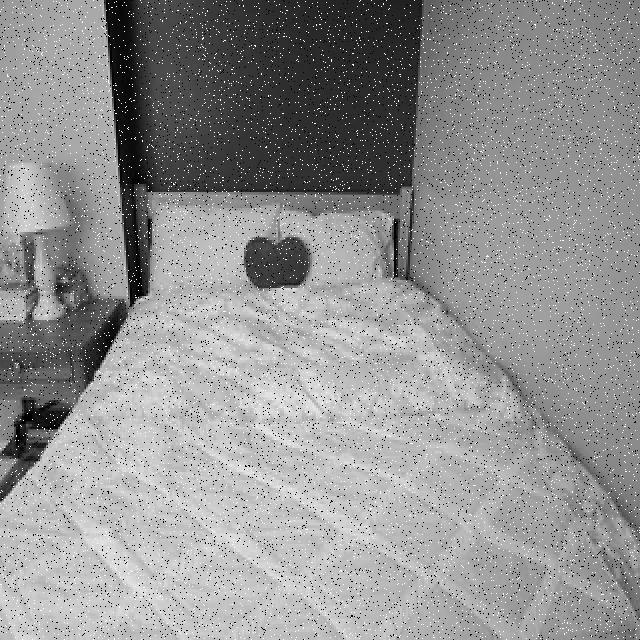bed: (2, 182, 640, 640)
